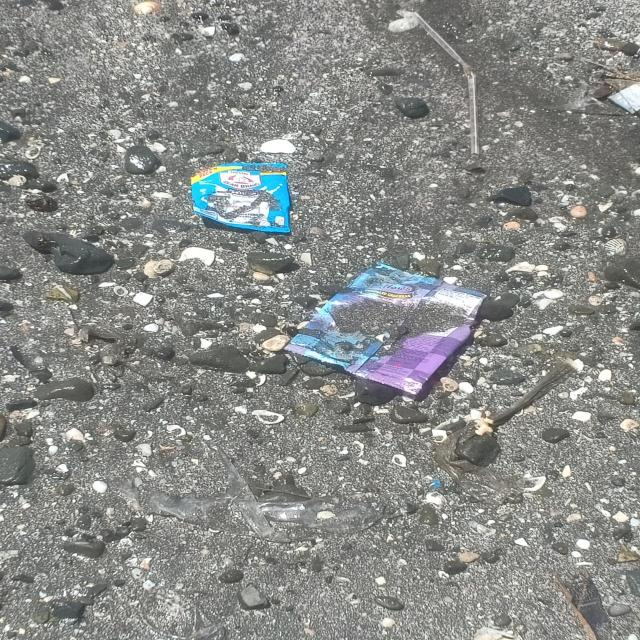plastic_waste: (284, 262, 489, 397), (191, 163, 292, 235)
